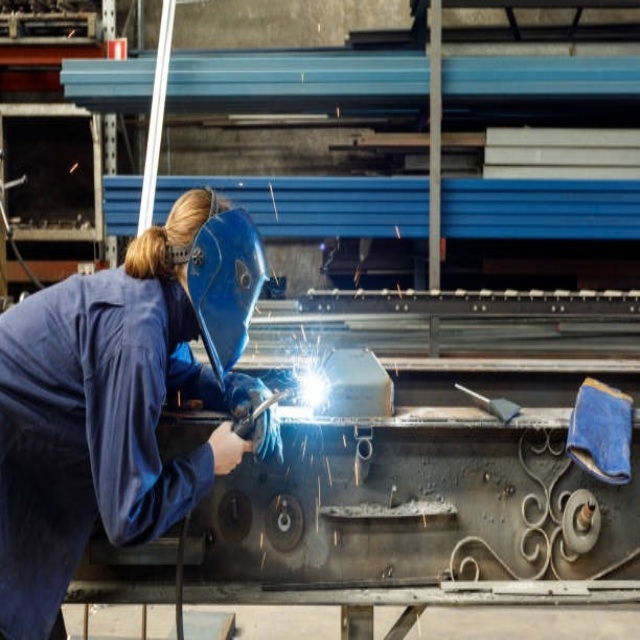Guantes: (237, 375, 289, 464)
Sin_guantes: (208, 421, 253, 477)
